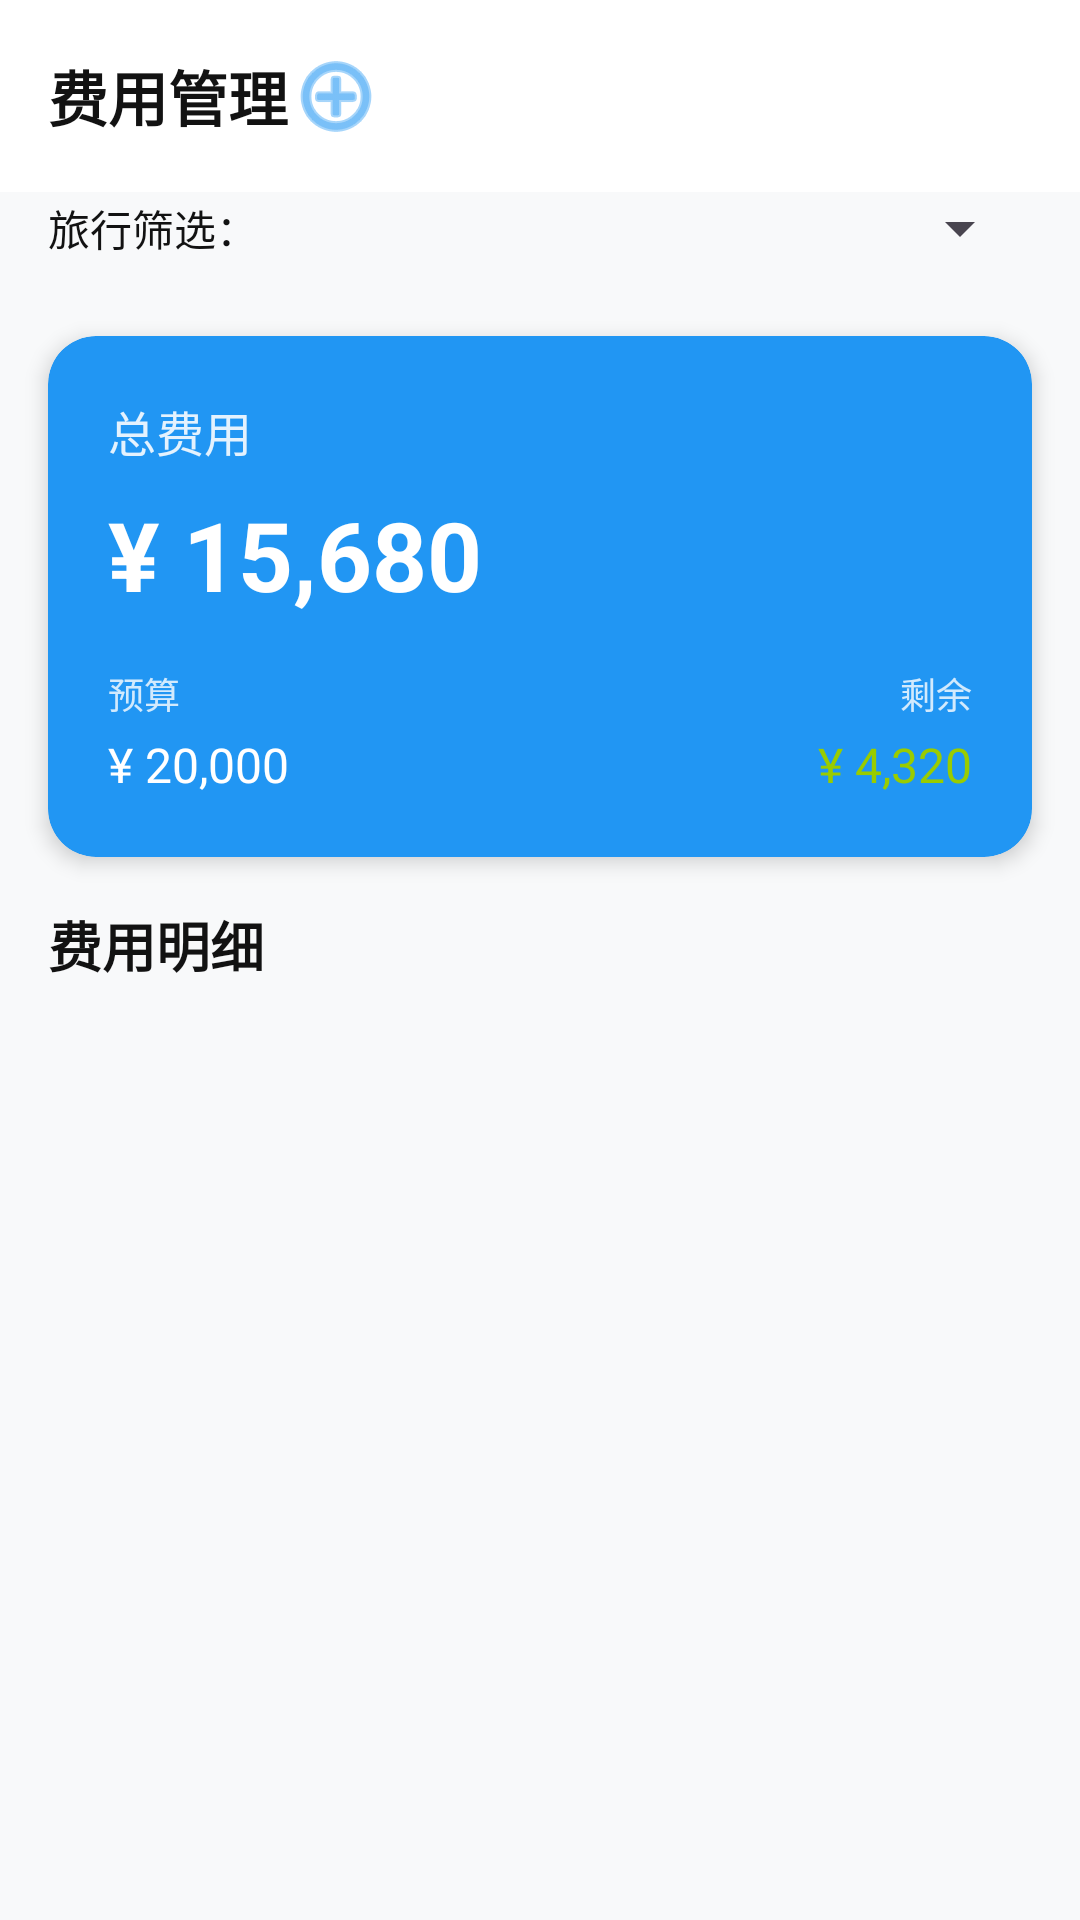

Named icons in this screenshot (1080px×1920px) and their bounding boxes, (left=x1, top=y1, right=x2, bottom=y2):
添加费用: (left=300, top=61, right=372, bottom=132)
